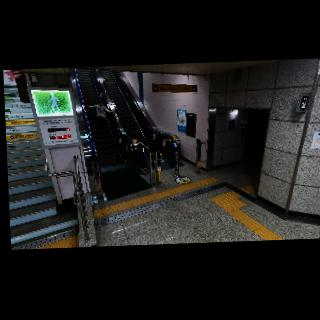normal: (84, 98, 114, 131)
